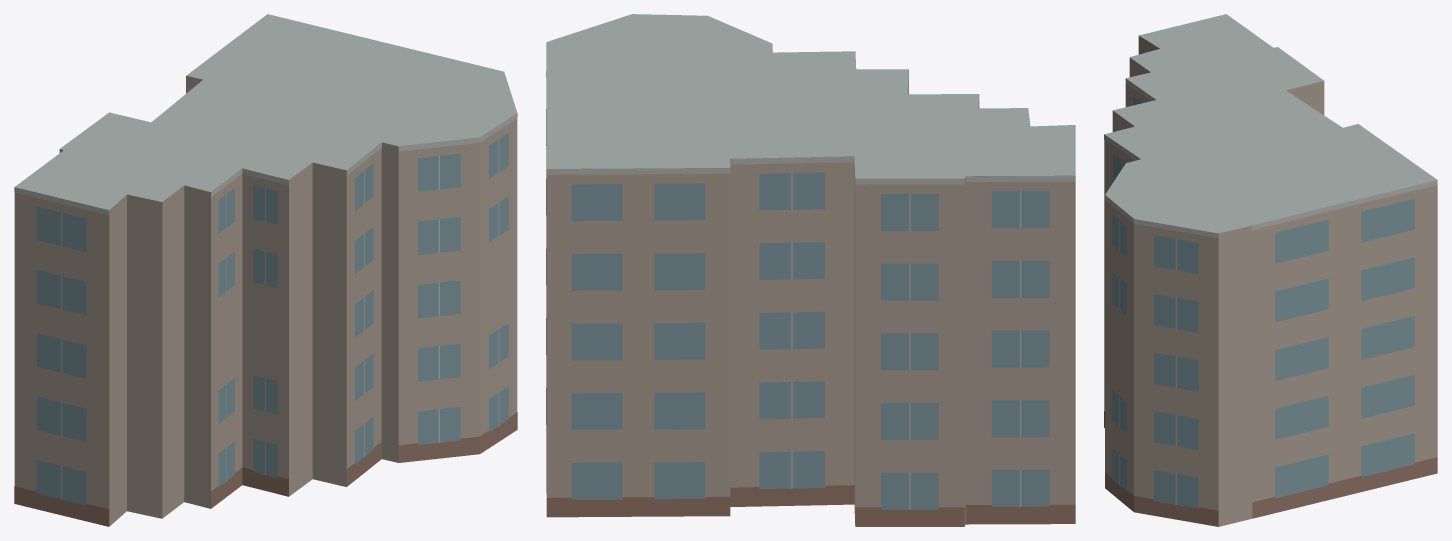
The model's file is survey-upis-32710553.glb.
3 renders of one model, left to right at view 1: azimuth 30°, elevation 25°; view 2: azimuth 150°, elevation 25°; view 3: azimuth 270°, elevation 25°, orthographic. The views are drawn at different scales.
Visible parts, largest first — view 1: survey-upis-32710553.tmp; view 2: survey-upis-32710553.tmp; view 3: survey-upis-32710553.tmp.
Part boxes in pixels (x1,y1,x2,y2): survey-upis-32710553.tmp: (14,14,517,526); survey-upis-32710553.tmp: (546,14,1075,526); survey-upis-32710553.tmp: (1104,14,1437,526).
Size of the model in its own units: 23.27 by 14.5 by 14.95.
